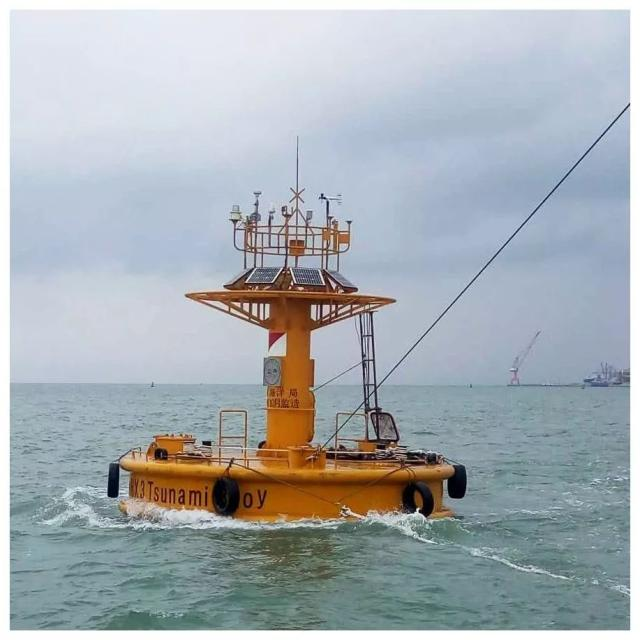buoy: (114, 162, 452, 530)
